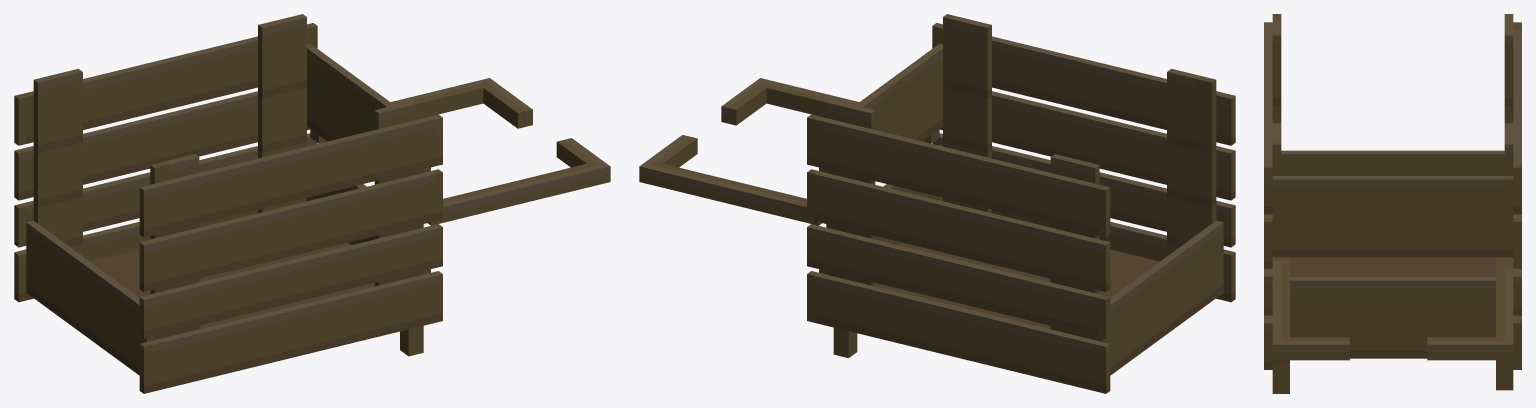
Rendered from cart_body_edit.obj.
3 renders of one model, left to right at view 1: azimuth 30°, elevation 25°; view 2: azimuth 150°, elevation 25°; view 3: azimuth 270°, elevation 25°, orthographic.
Size of the model in its own units: 6.3 by 3.2 by 3.
1 material, 1 textured.
